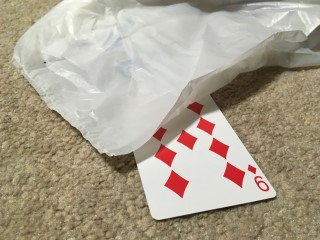NineOfDiamonds: (133, 95, 276, 221)
